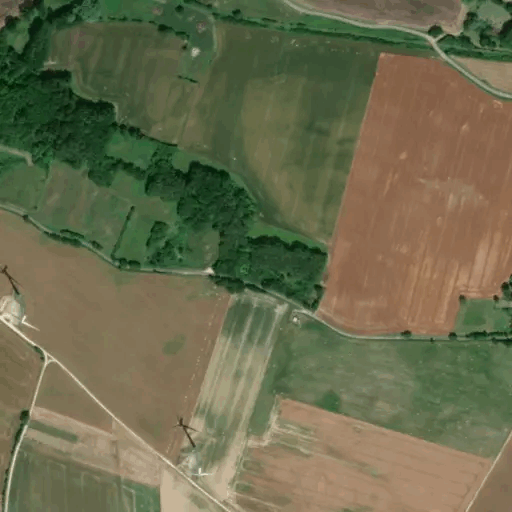wt: (164, 415, 217, 482), (1, 259, 43, 336)
